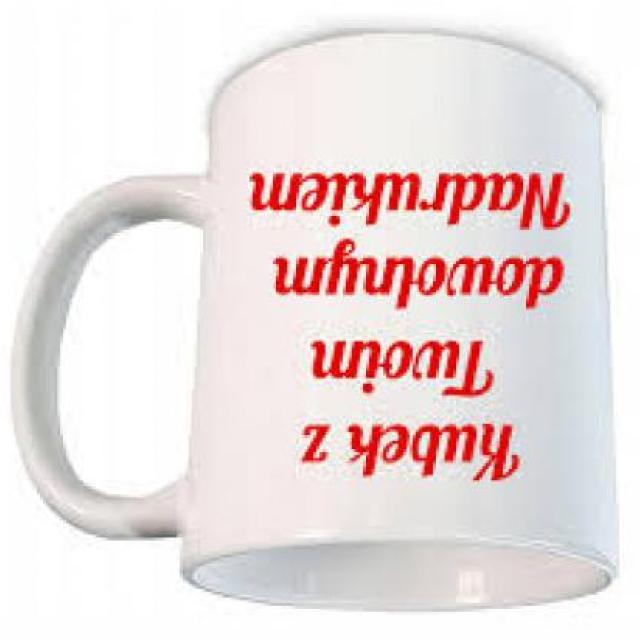cup: (4, 26, 626, 615)
